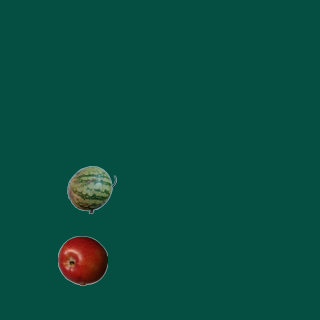Apple Braeburn: (57, 235, 107, 285)
Watermelon: (66, 164, 116, 214)
